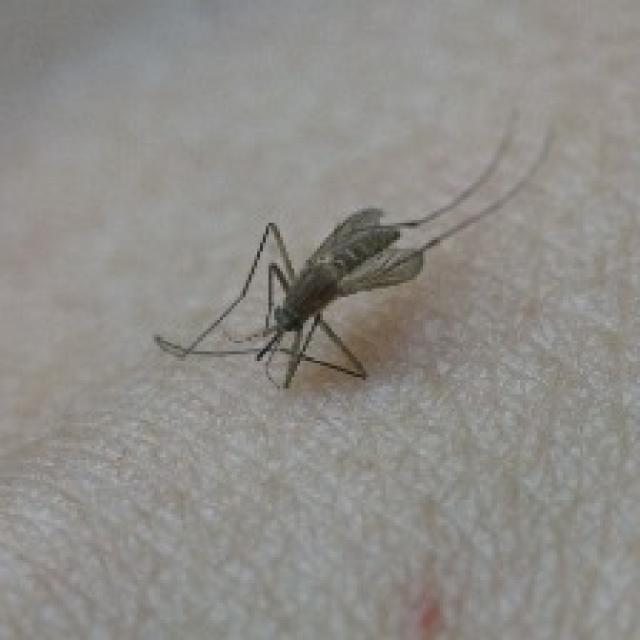culex: (152, 103, 554, 391)
